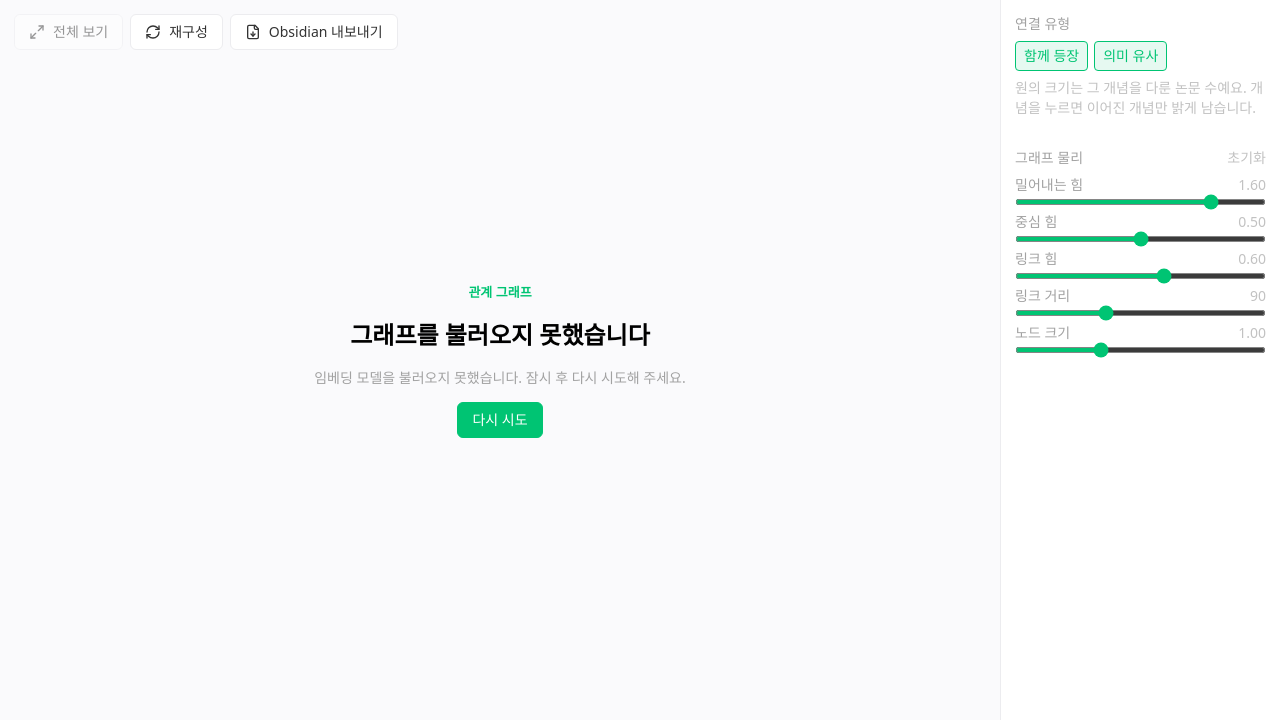
graph page — topic view (default) › surfaces a load failure with a retry that refetches
Expected: the message shows "임베딩 모델을 불러오지 못했습니다.", [314,368,686,387]
Click the button "다시 시도" at (500, 420), box [457,402,543,438]
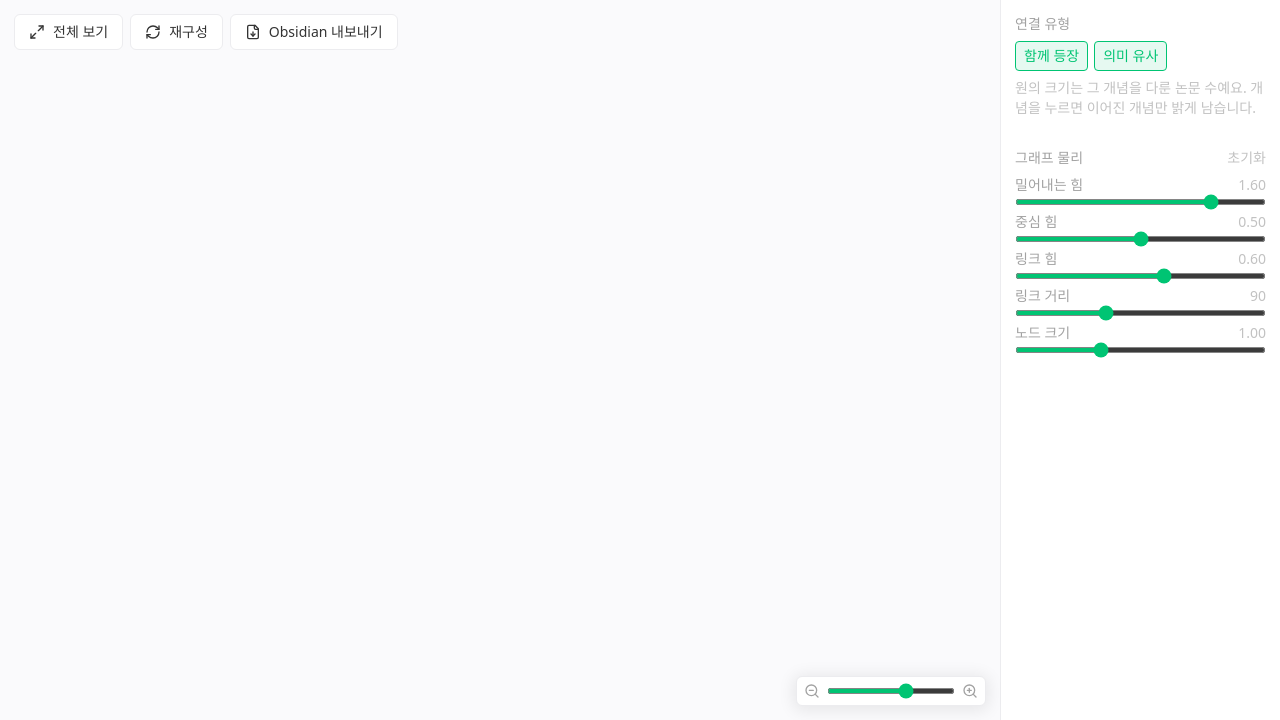
Expected: the text "다시 시도" is gone
